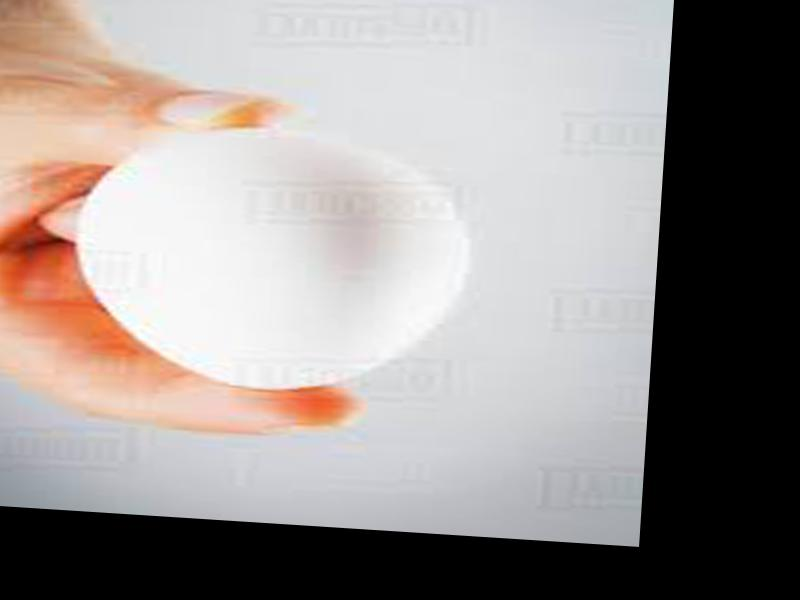Eggs: (71, 121, 475, 401)
